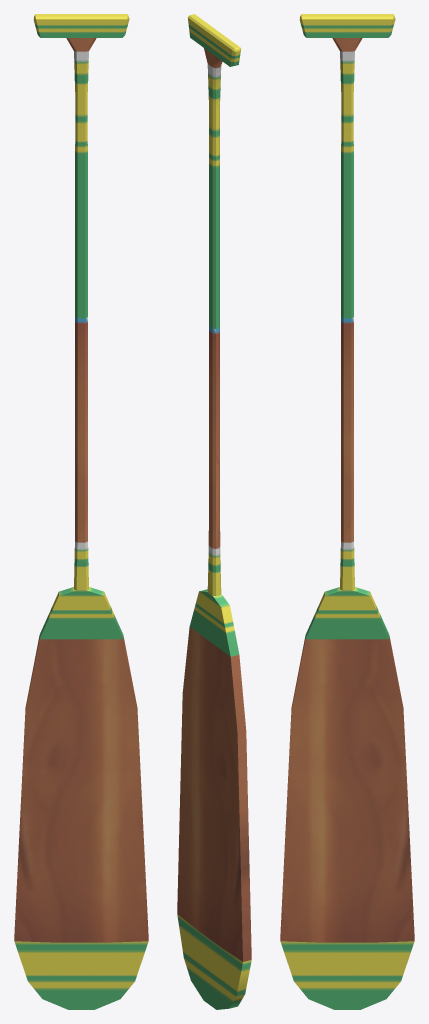
File: oar-7.fbx
3 views of the same model, side by side, from view 1: azimuth 90°, elevation 25°; view 2: azimuth 210°, elevation 25°; view 3: azimuth 270°, elevation 25° (orthographic).
Visible parts, largest first — view 1: pCube2; view 2: pCube2; view 3: pCube2.
Boxes of the visible parts, x1=… form: pCube2: x1=14, y1=14, x2=148, y2=1009; pCube2: x1=177, y1=14, x2=251, y2=1009; pCube2: x1=280, y1=14, x2=414, y2=1009.
Size of the model in its own units: 0.4155 by 44.19 by 5.42.
Materials: 1 (1 with a texture image).
